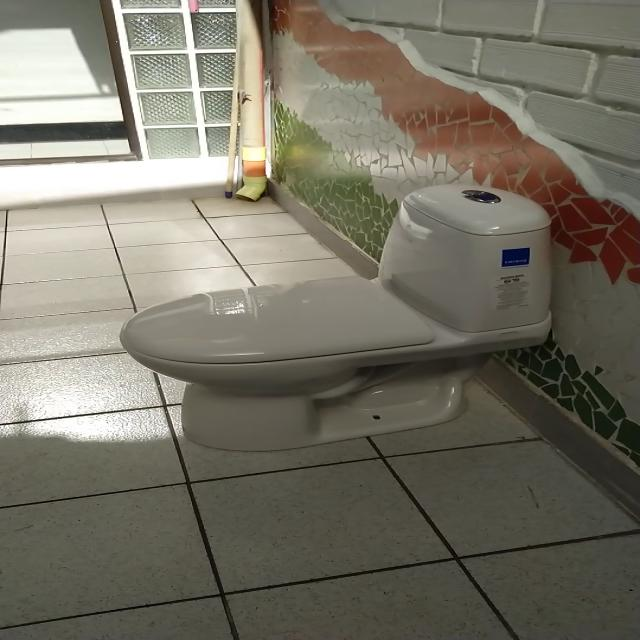toilet: (119, 182, 554, 452)
